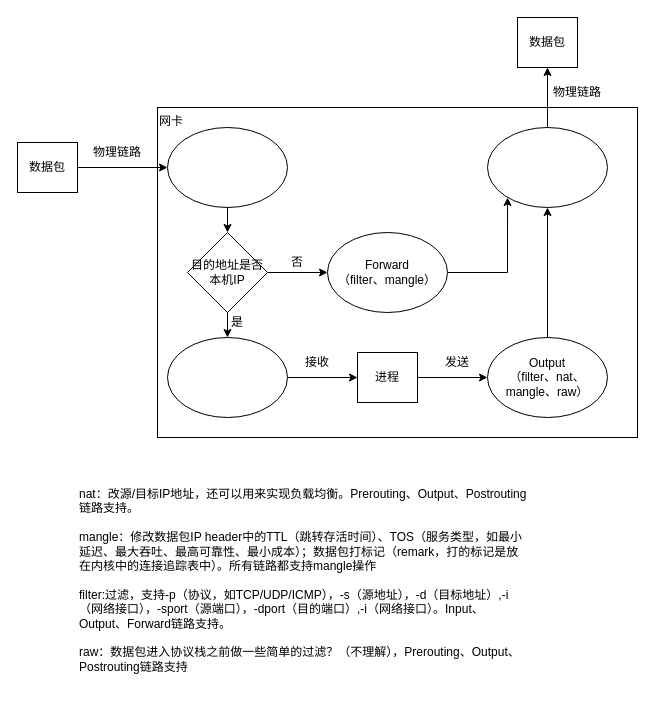
The diagram is 655 pixels wide and 706 high, and some of its shapes have lost their labels. Here are the shapes that lost their labels. From the top down, the centre of each, then its label:
At (227,167): "Prerouting (nat、mangle、raw)".
At (547,167): "Outrouting （nat、mangle、raw）".
At (227,377): "Input （filter、mangle）".
